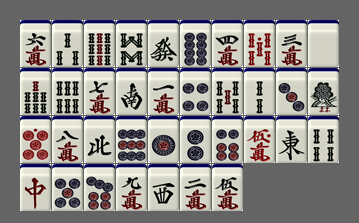0m: (244, 116, 275, 163)
0p: (20, 116, 51, 163)
0s: (244, 20, 275, 67)
1m: (148, 68, 179, 115)
1p: (148, 116, 179, 163)
1s: (308, 68, 339, 115)
1z: (276, 116, 307, 163)
2m: (180, 164, 211, 211)
2p: (180, 116, 211, 163)
2s: (244, 68, 275, 115)
2z: (116, 68, 147, 115)
3m: (276, 20, 307, 67)
3p: (276, 68, 307, 115)
3s: (52, 20, 83, 67)
3z: (148, 164, 179, 211)
4m: (212, 20, 243, 67)
4p: (180, 68, 211, 115)
4s: (308, 116, 339, 163)
4z: (84, 116, 115, 163)
5m: (212, 164, 243, 211)
5p: (52, 164, 83, 211)
5s: (212, 68, 243, 115)
5z: (308, 20, 339, 67)
6m: (20, 20, 51, 67)
6p: (212, 116, 243, 163)
6s: (52, 68, 83, 115)
6z: (148, 20, 179, 67)
7m: (84, 68, 115, 115)
7p: (84, 164, 115, 211)
7s: (20, 68, 51, 115)
7z: (20, 164, 51, 211)
8m: (52, 116, 83, 163)
8p: (180, 20, 211, 67)
8s: (116, 20, 147, 67)
9m: (116, 164, 147, 211)
9p: (116, 116, 147, 163)
9s: (84, 20, 115, 67)
